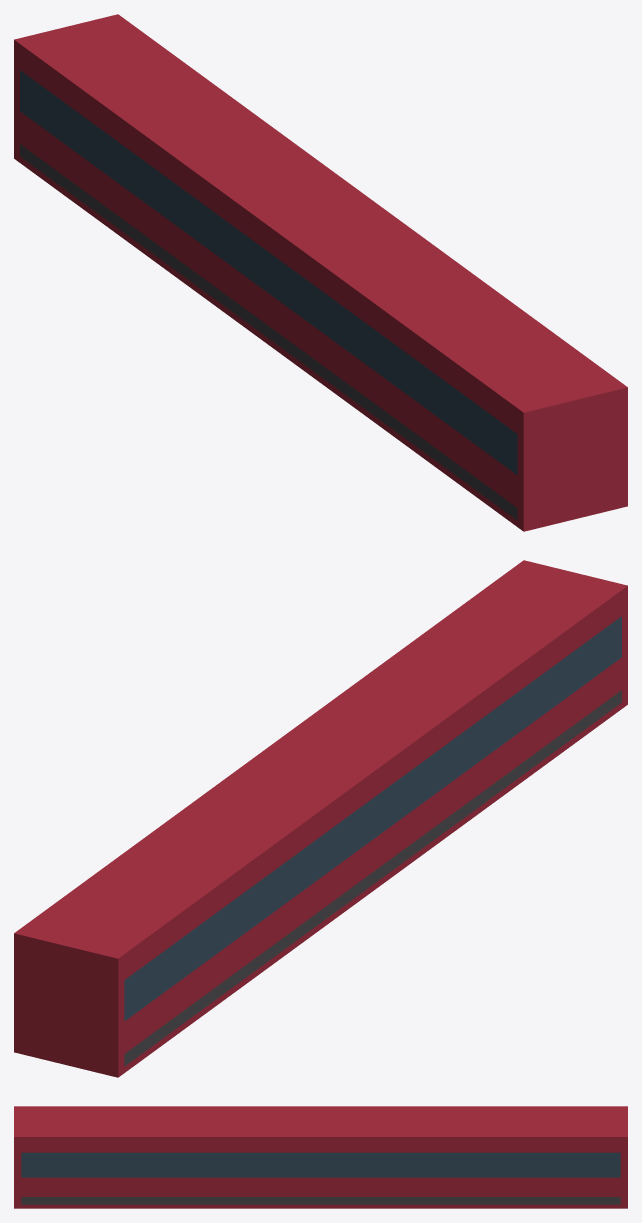
Rendered from middle_1_far.fbx.
3 renders of one model, top to bottom at view 1: azimuth 30°, elevation 25°; view 2: azimuth 150°, elevation 25°; view 3: azimuth 270°, elevation 25°, orthographic. The views are drawn at different scales.
Visible parts, largest first — view 1: 21_middle_1_far; view 2: 21_middle_1_far; view 3: 21_middle_1_far.
Part boxes in pixels (box(x1,y1,x2,y2)): 21_middle_1_far: box(14, 14, 627, 531); 21_middle_1_far: box(14, 560, 627, 1077); 21_middle_1_far: box(14, 1106, 627, 1208).
Bounding box in the file's own units: 2.96 × 3.22 × 25.
